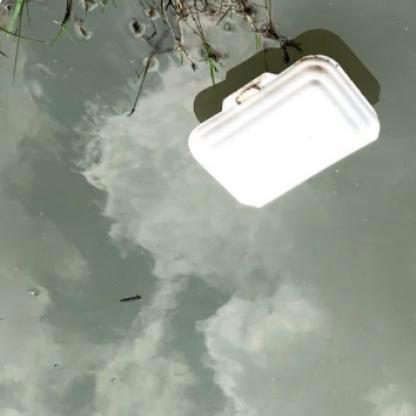Plastic: (186, 43, 382, 211)
